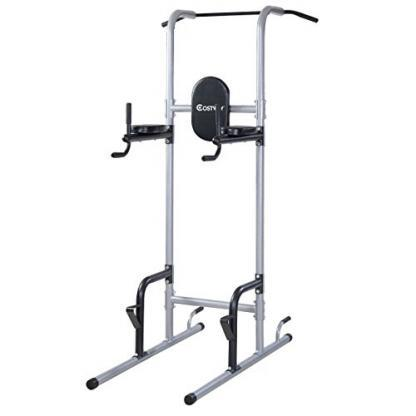chinning dipping: (113, 8, 319, 399)
